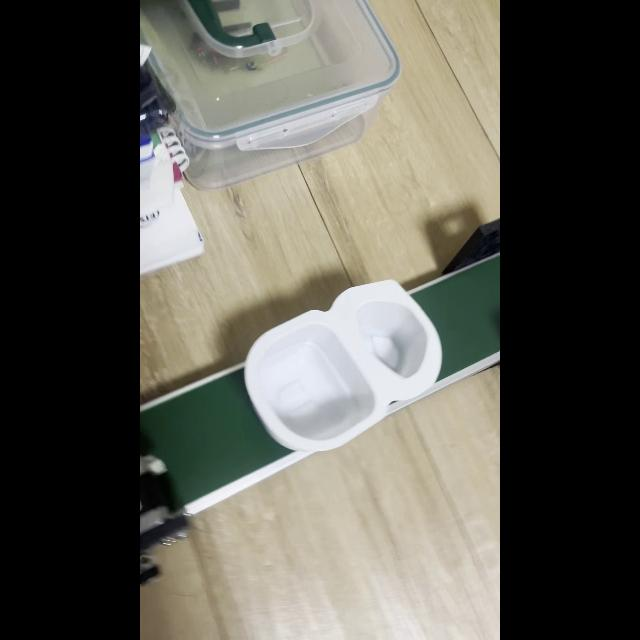clean: (243, 281, 442, 449)
